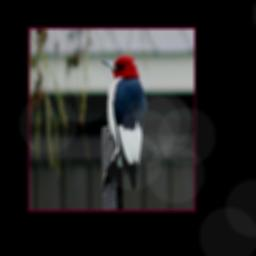Woodpecker: (100, 50, 148, 195)
